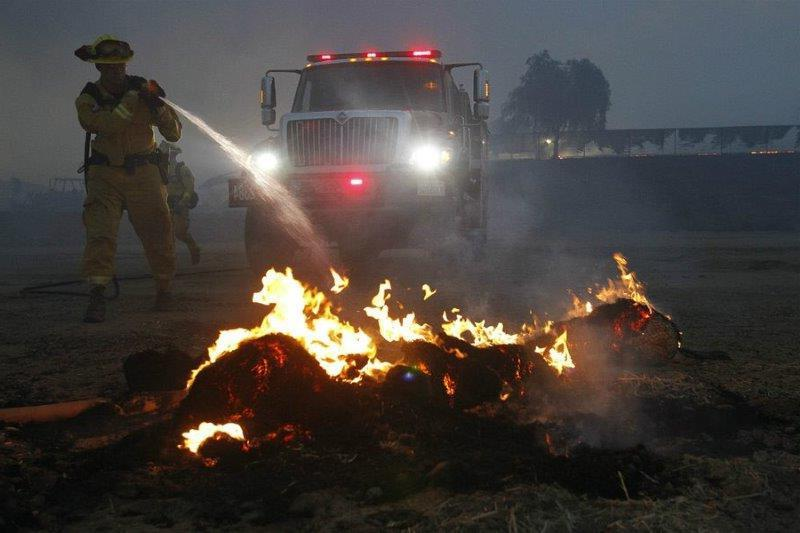Fire: (165, 263, 578, 400), (566, 247, 660, 322), (180, 416, 246, 458)
